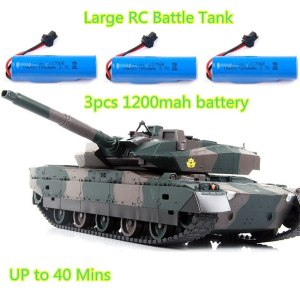Battle Tank: (23, 114, 300, 247)
